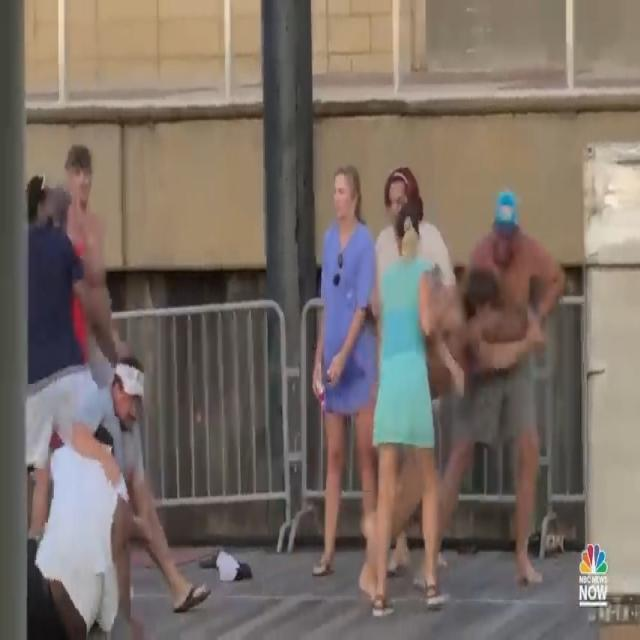fight: (368, 194, 568, 618), (27, 353, 216, 640)
non-fight: (312, 144, 373, 595)
